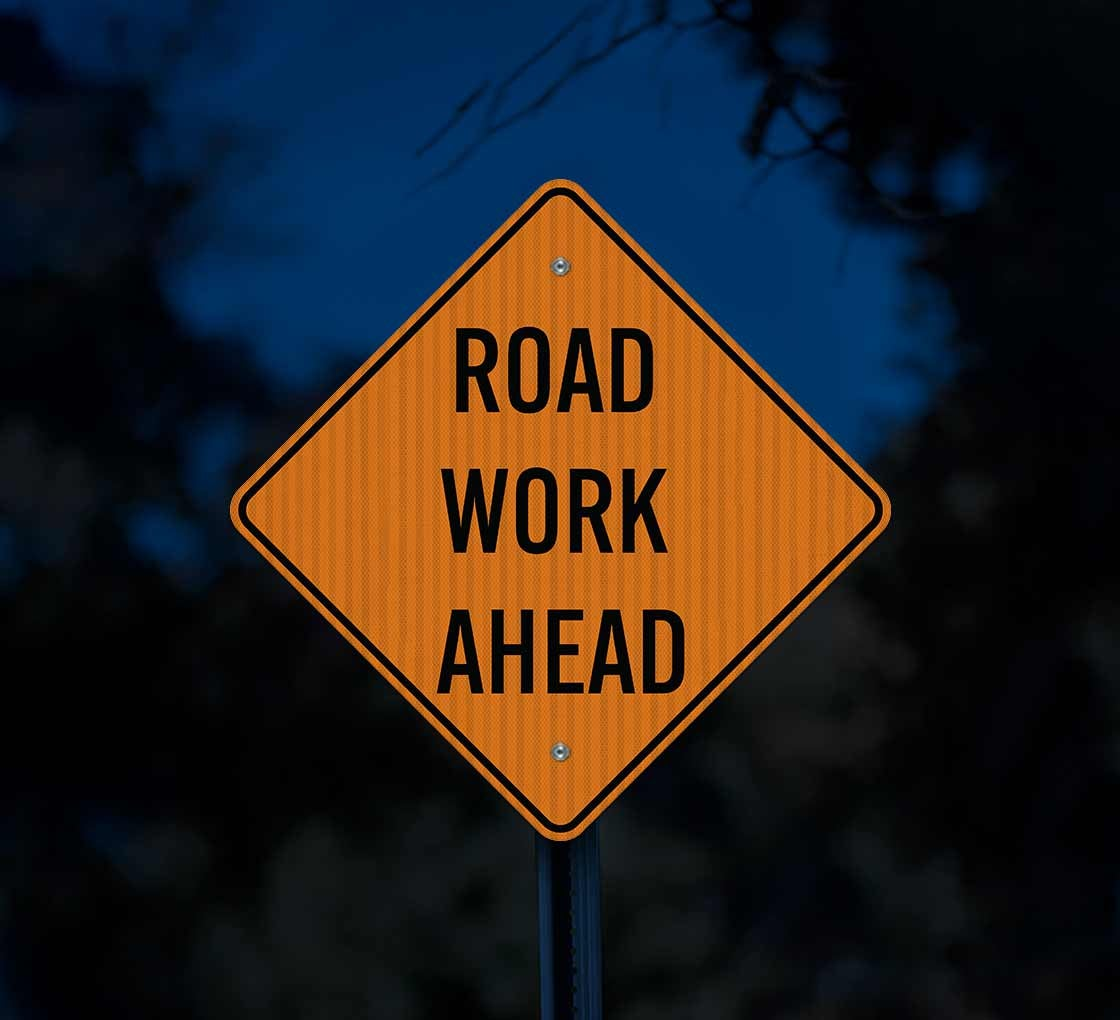Road_workahead: (218, 174, 923, 848)
